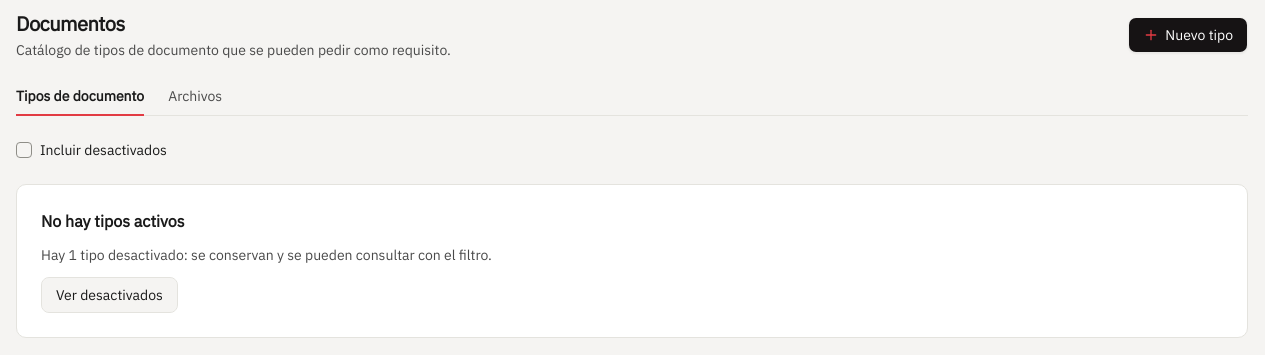
Test: TiposDocumentoPage: estados de la consulta › sin activos pero con desactivados no dice que el catálogo está vacío y deja verlos
Check: the heading "No hay tipos activos" is shown, box [41, 209, 184, 233]
Check: the text "Hay 1 tipo desactivado" is shown, box [41, 246, 492, 264]
Click the button "Ver desactivados": (109, 295) [41, 277, 178, 313]
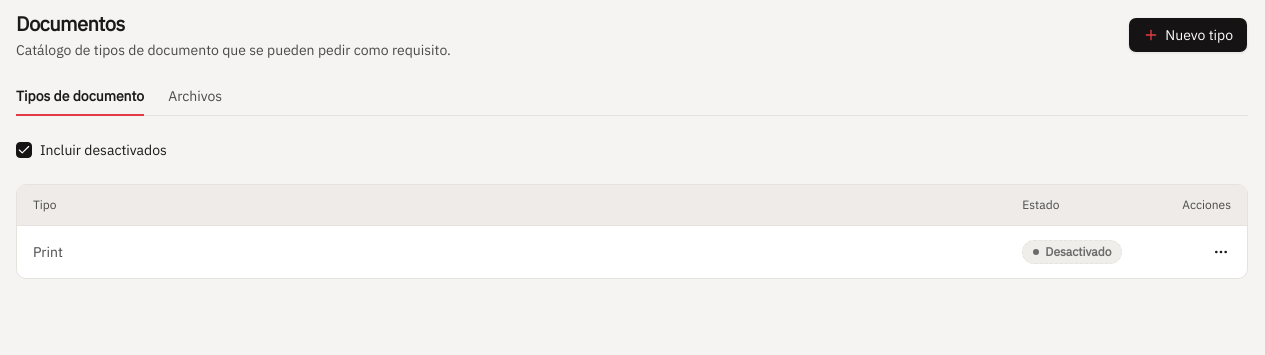
Check: the text "Desactivado" is shown, box [1022, 240, 1122, 264]
Check: the checkbox named "Incluir desactivados" is checked, box [16, 142, 32, 158]
